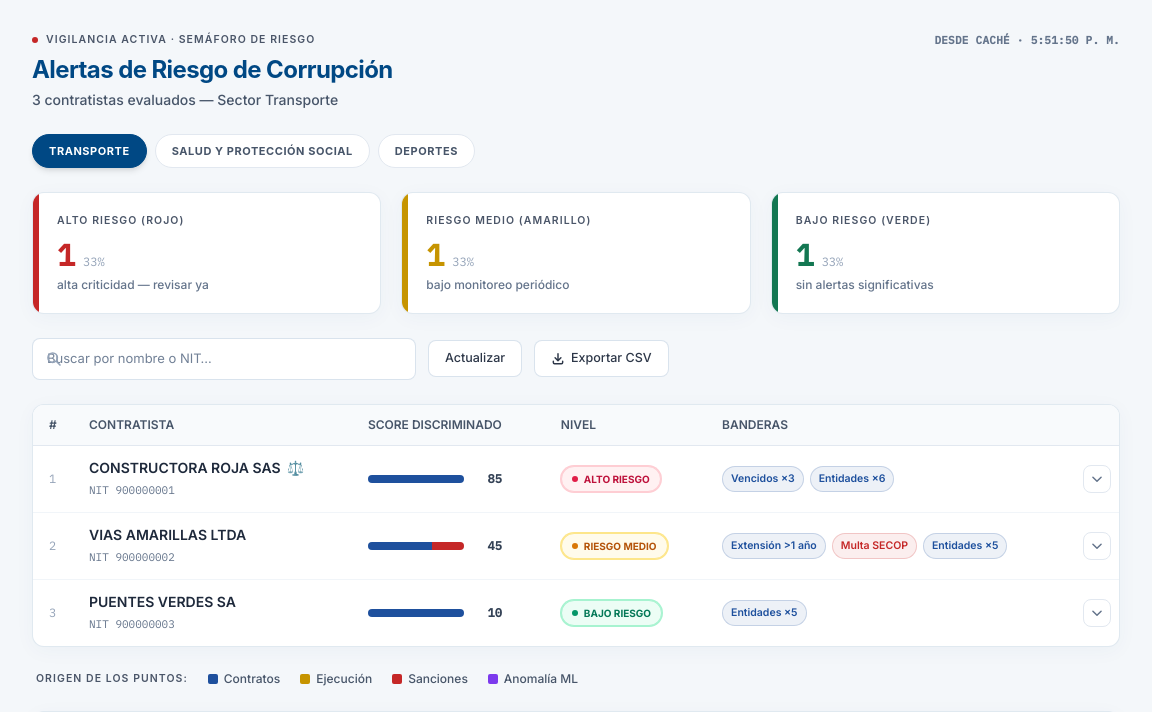
AlertasPage: los scores de la API se muestran correctamente › las tarjetas del semáforo filtran al hacer clic y se desactivan con el segundo clic
The width and height of the screenshot is (1152, 712).
Expected: the text "CONSTRUCTORA ROJA SAS" is shown, [89,458,281,478]
Click the button "Alto Riesgo (ROJO)" at (121, 221), box [32,192,381,314]
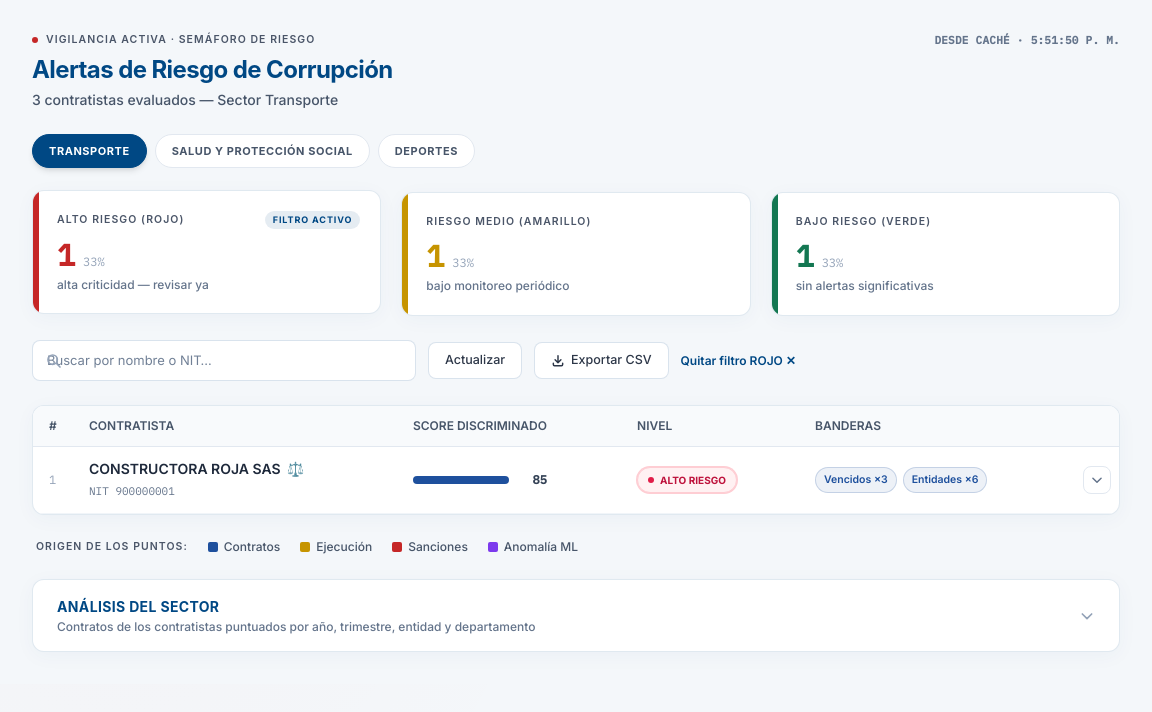
Expected: the text "CONSTRUCTORA ROJA SAS" is shown, [89,459,281,479]
Now the text "VIAS AMARILLAS LTDA" is gone
Now the text "PUENTES VERDES SA" is gone
Click the button "Alto Riesgo (ROJO)" at (121, 220), box [32,190,381,314]
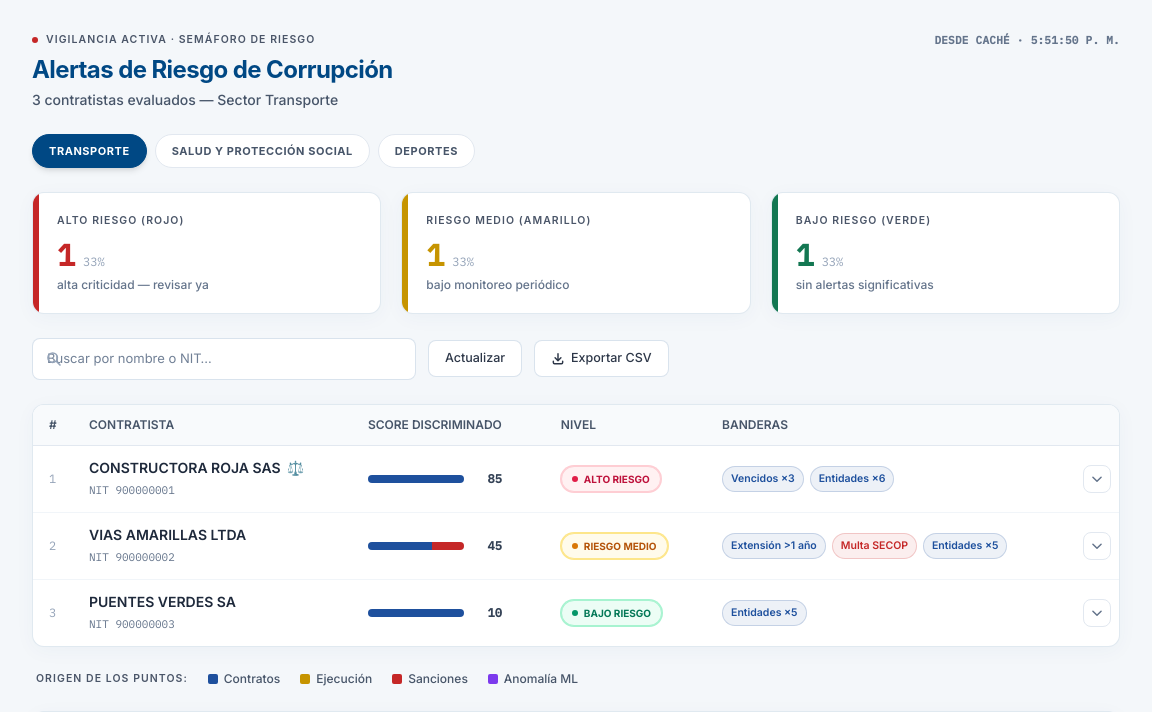
Now the text "VIAS AMARILLAS LTDA" is shown, box [89,524,246,544]
Now the text "PUENTES VERDES SA" is shown, box [89,592,236,612]
